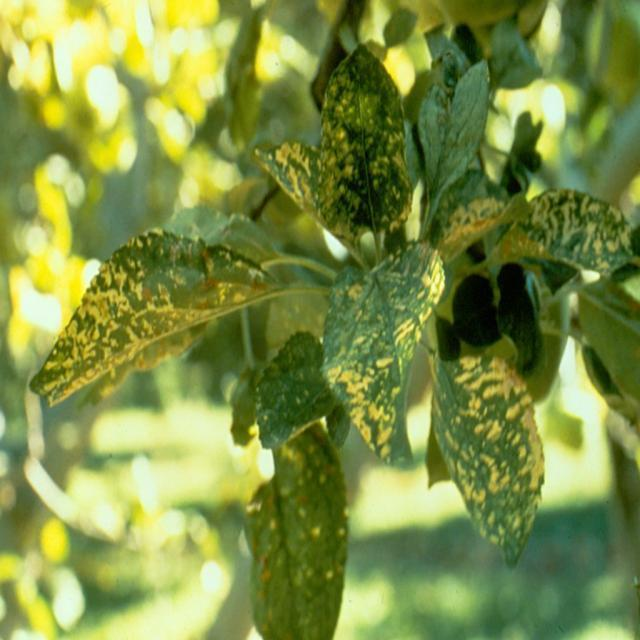Mosaic Virus: (25, 222, 243, 416), (332, 232, 442, 476), (438, 348, 540, 564), (317, 64, 401, 236), (492, 196, 640, 293), (257, 146, 319, 216)
